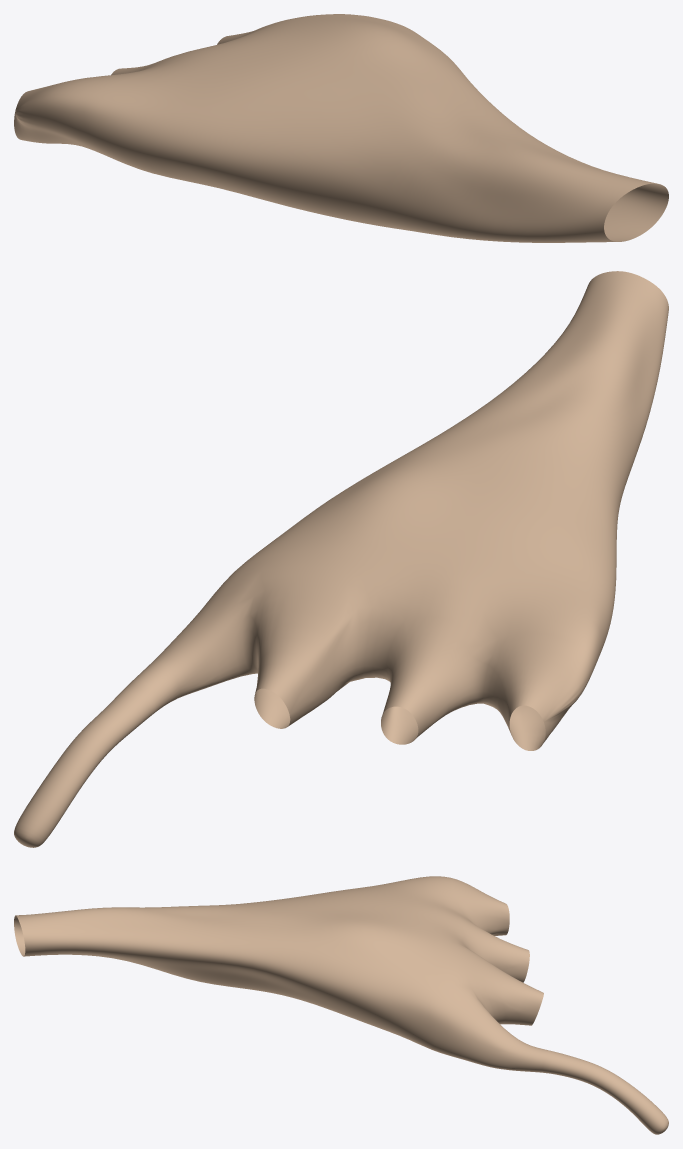
The picture shows the model from 3 angles, top to bottom: view 1: azimuth 30°, elevation 25°; view 2: azimuth 150°, elevation 25°; view 3: azimuth 270°, elevation 25°; orthographic projection. The views are drawn at different scales.
Parts seen in each view (by area): view 1: 右侧屈肌总腱鞘; view 2: 右侧屈肌总腱鞘; view 3: 右侧屈肌总腱鞘.
Boxes of the visible parts, x1,y1,x2,y2 form: 右侧屈肌总腱鞘: [14, 14, 668, 242]; 右侧屈肌总腱鞘: [14, 271, 668, 847]; 右侧屈肌总腱鞘: [14, 876, 668, 1134].
Size of the model in its own units: 0.0906 by 0.0524 by 0.1786.
